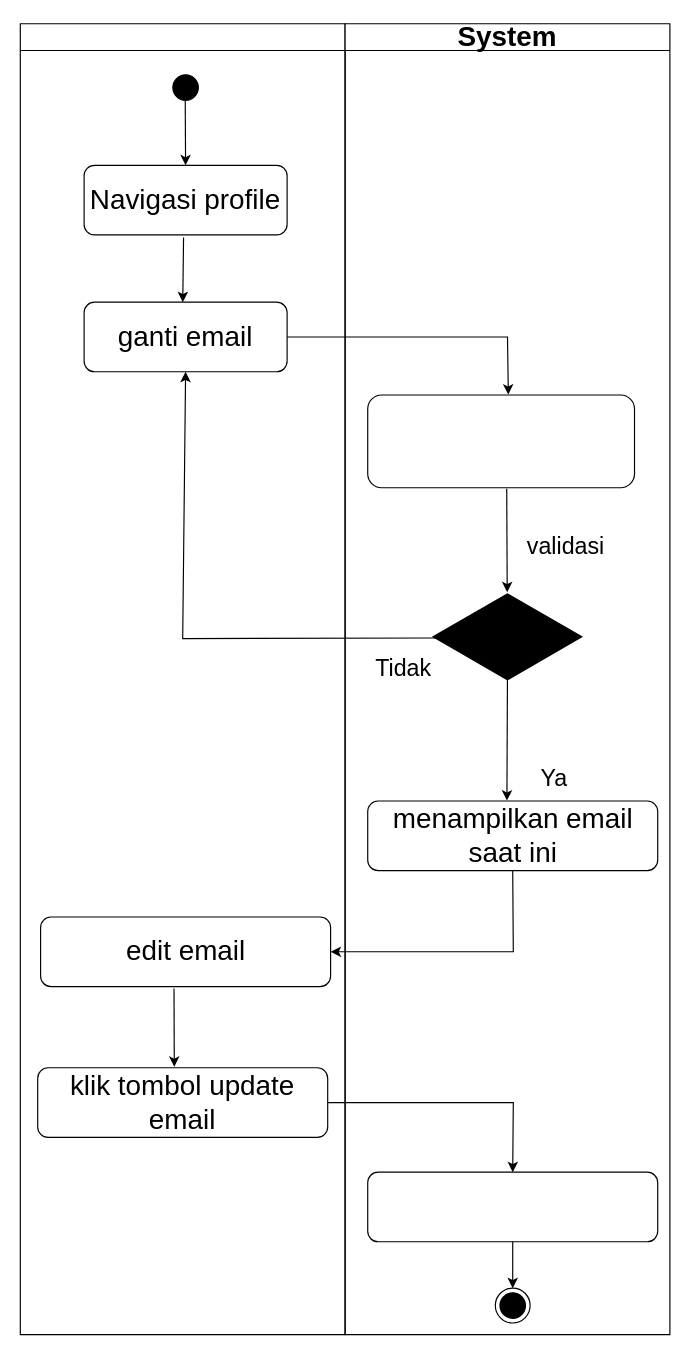
Image size: 690x1355. Some labels were removed from this diagram. The box of each missing label's shape, as (x1, y1, x2, y2) in pixels:
email baru tersimpan kedalam database: (367, 1171, 658, 1242)
memasukan password akun: (367, 394, 635, 488)
user: (19, 23, 345, 1335)
